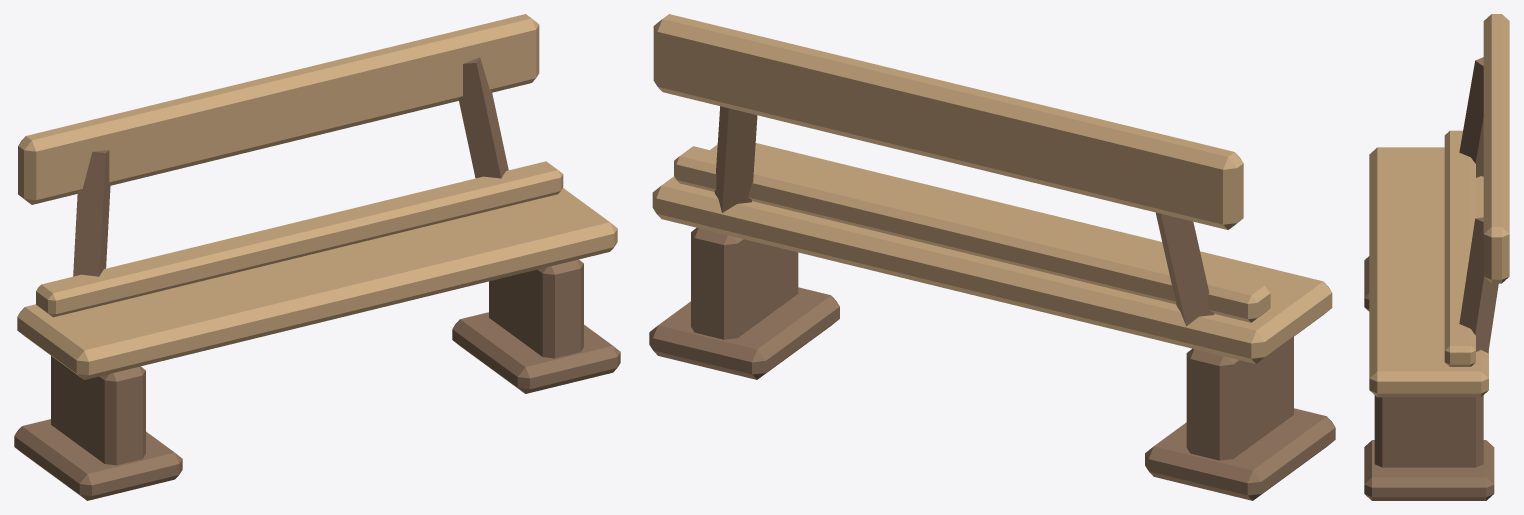
File: bench.glb
The picture shows the model from 3 angles, left to right: view 1: azimuth 30°, elevation 25°; view 2: azimuth 150°, elevation 25°; view 3: azimuth 270°, elevation 25°; orthographic projection. The views are drawn at different scales.
Visible parts, largest first — view 1: bench; view 2: bench; view 3: bench.
Part boxes in pixels (box(x1,y1,x2,y2)): bench: box(14, 14, 620, 500); bench: box(649, 14, 1335, 500); bench: box(1364, 14, 1509, 500).
Size of the model in its own units: 2.1 by 1.14 by 0.56.
